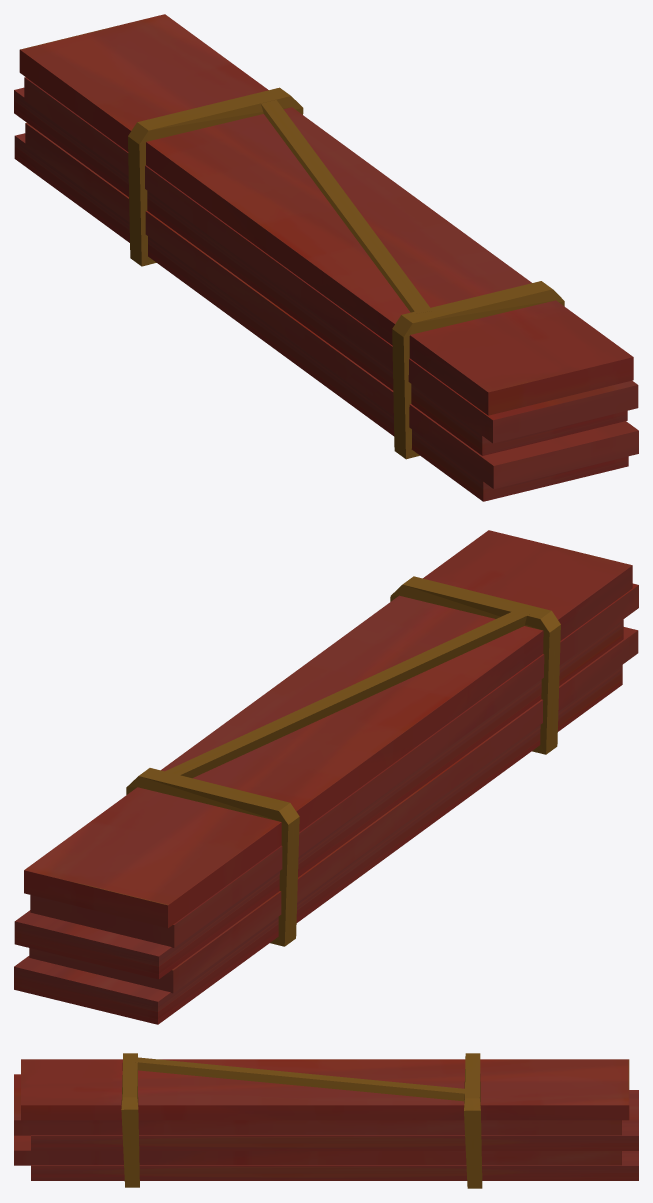
Rendered from BoundPlanks.fbx.
3 views of the same model, one above another, from view 1: azimuth 30°, elevation 25°; view 2: azimuth 150°, elevation 25°; view 3: azimuth 270°, elevation 25° (orthographic). The views are drawn at different scales.
Parts seen in each view (by area): view 1: Cube; view 2: Cube; view 3: Cube.
Part boxes in pixels (x1,y1,x2,y2): Cube: (14, 14, 638, 501); Cube: (14, 530, 638, 1024); Cube: (14, 1053, 638, 1188).
Bounding box in the file's own units: 0.1201 × 0.0956 × 0.6153.
Materials: 1 (1 with a texture image).
